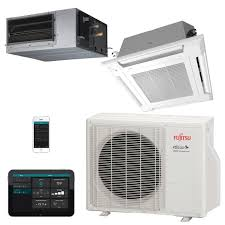ac: (113, 21, 218, 112), (4, 6, 109, 61)
